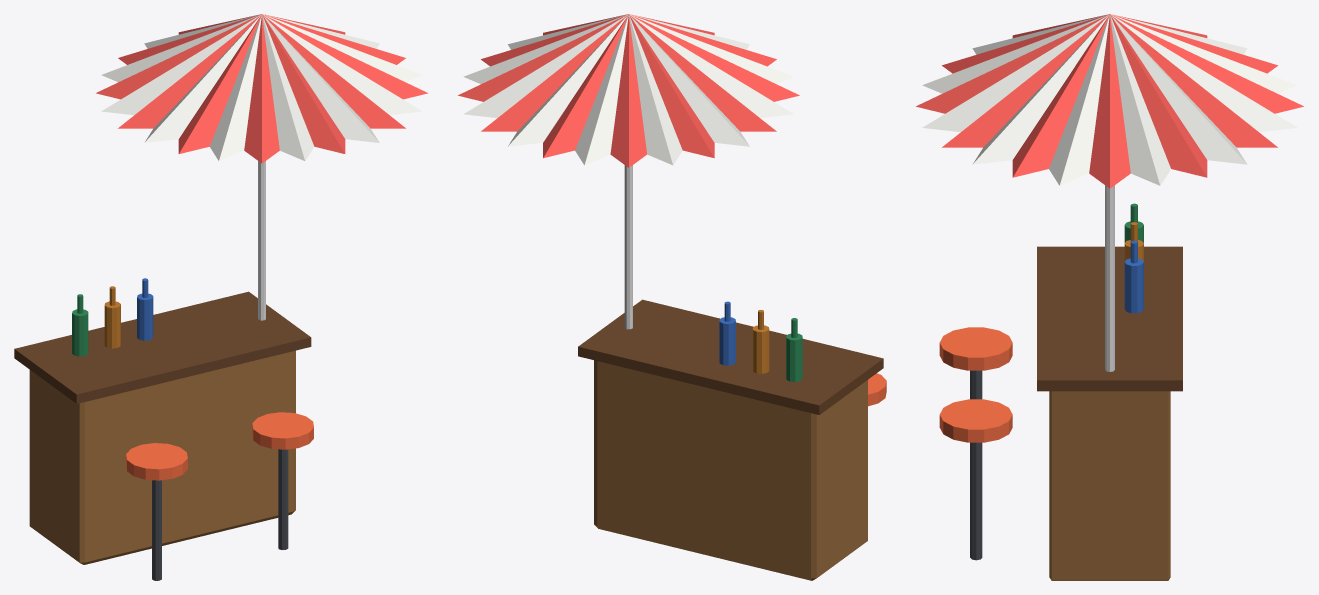
Rendered from LoungeBar.glb.
3 renders of one model, left to right at view 1: azimuth 30°, elevation 25°; view 2: azimuth 150°, elevation 25°; view 3: azimuth 270°, elevation 25°, orthographic. The views are drawn at different scales.
Parts seen in each view (by area): view 1: LoungeBar; view 2: LoungeBar; view 3: LoungeBar.
Part boxes in pixels (x1,y1,x2,y2): LoungeBar: [14, 14, 427, 580]; LoungeBar: [458, 14, 886, 580]; LoungeBar: [916, 14, 1303, 580].
Size of the model in its own units: 2 by 2.56 by 1.6.
